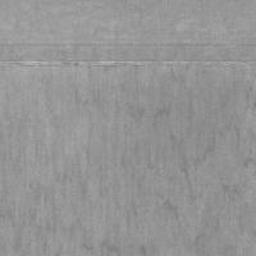Welding line: (0, 60, 256, 69)
